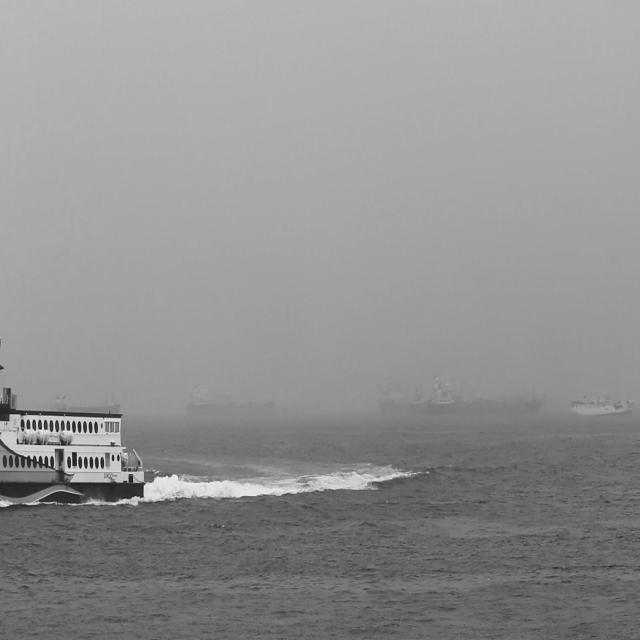ship: (0, 348, 148, 508), (432, 378, 546, 417), (188, 382, 279, 414), (568, 391, 635, 419), (368, 385, 413, 417), (52, 394, 120, 412), (414, 392, 430, 416)
